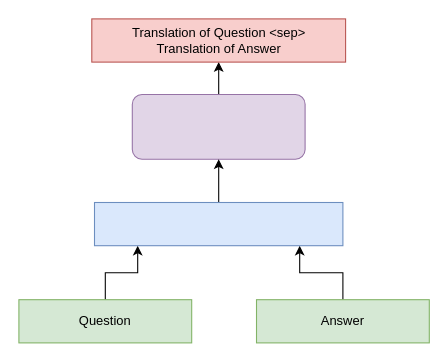
Some shapes in this 448 by 362 pixel diagram are drawn without their labels. The shapes that lost their labels are listed below. From the top down, each one's centre as x and y in pixels, then its label:
point (218, 126): Encoder
point (218, 223): Concatenated Input
